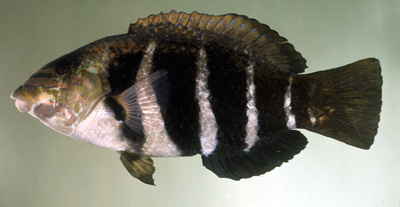fish: (10, 9, 384, 187)
